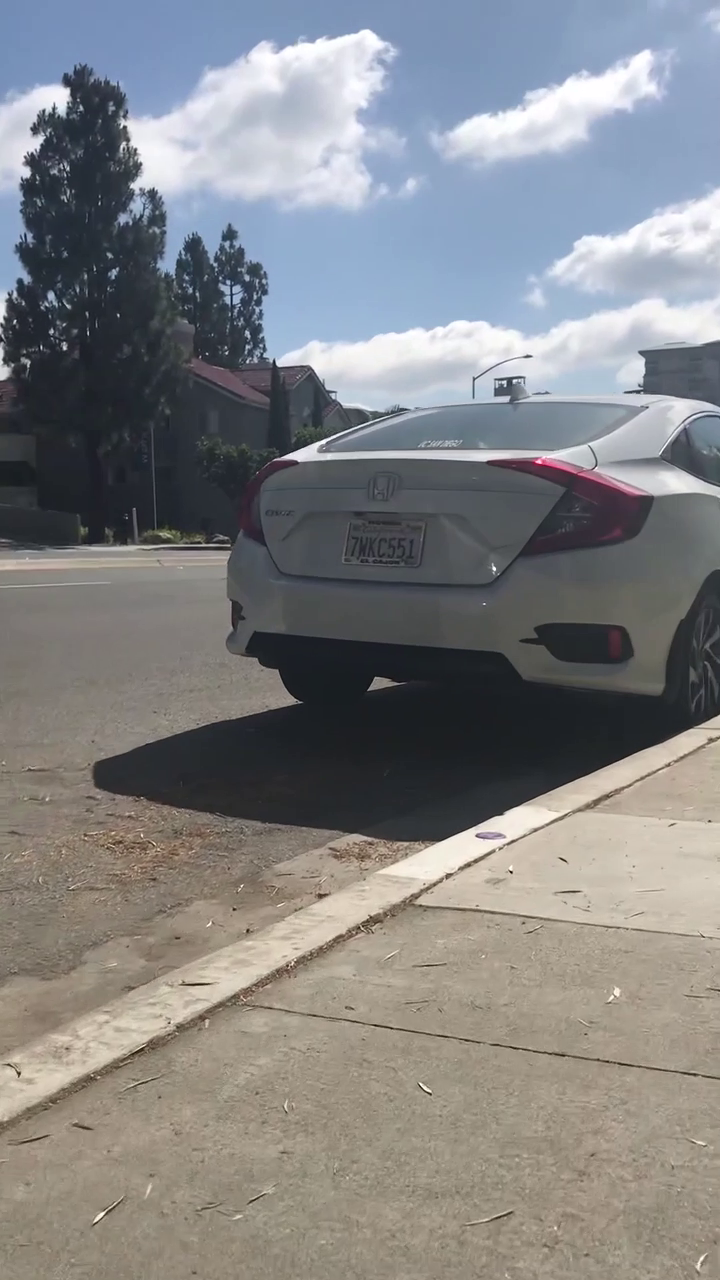car: (208, 367, 714, 753)
